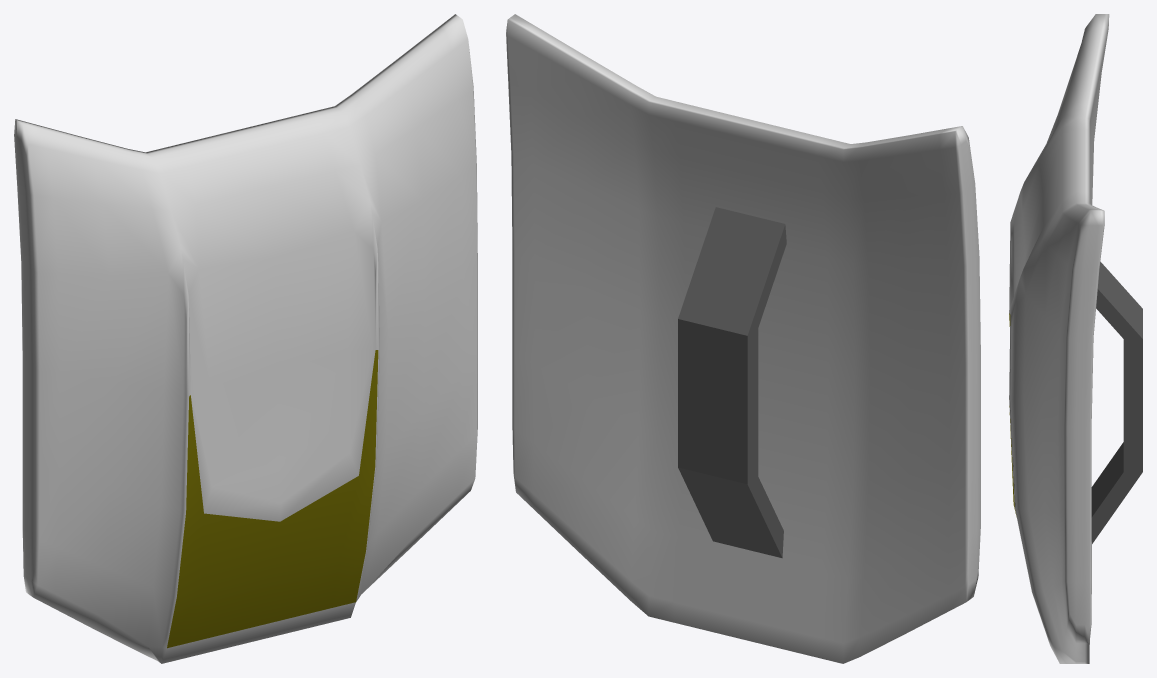
File: Shield.fbx
3 views of the same model, side by side, from view 1: azimuth 30°, elevation 25°; view 2: azimuth 150°, elevation 25°; view 3: azimuth 270°, elevation 25° (orthographic). The views are drawn at different scales.
Visible parts, largest first — view 1: Shield; view 2: Shield; view 3: Shield.
Part boxes in pixels (left/top/right/bottom): Shield: left=14, top=14, right=477, bottom=663; Shield: left=506, top=14, right=980, bottom=663; Shield: left=1009, top=14, right=1142, bottom=663.
Bounding box in the file's own units: 3.22 × 3.84 × 0.9109.
